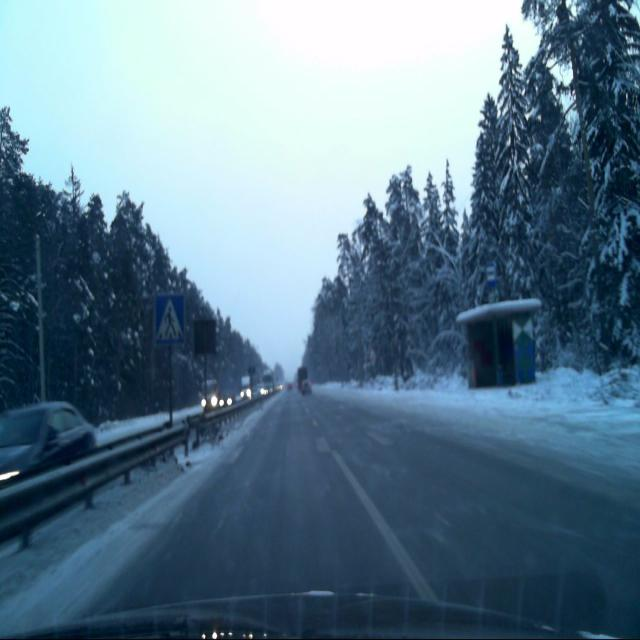road sign: (154, 293, 186, 347)
